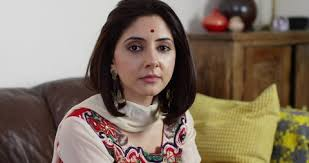indian_female: (76, 1, 219, 143)
